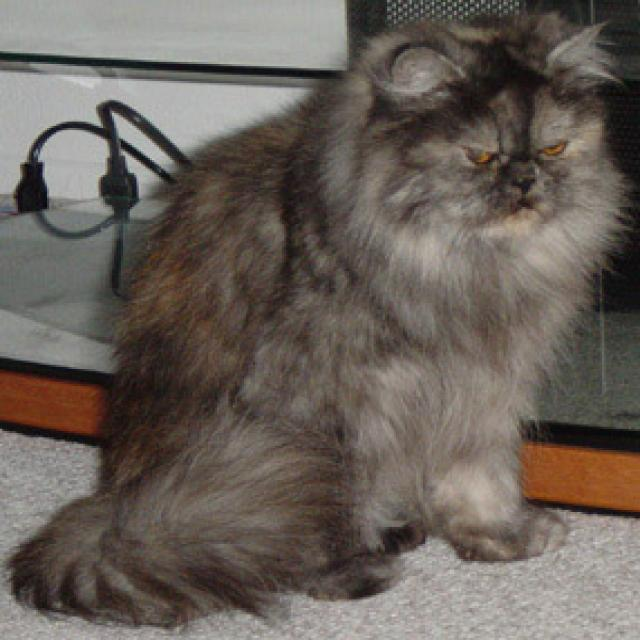Persian: (340, 7, 633, 276)
